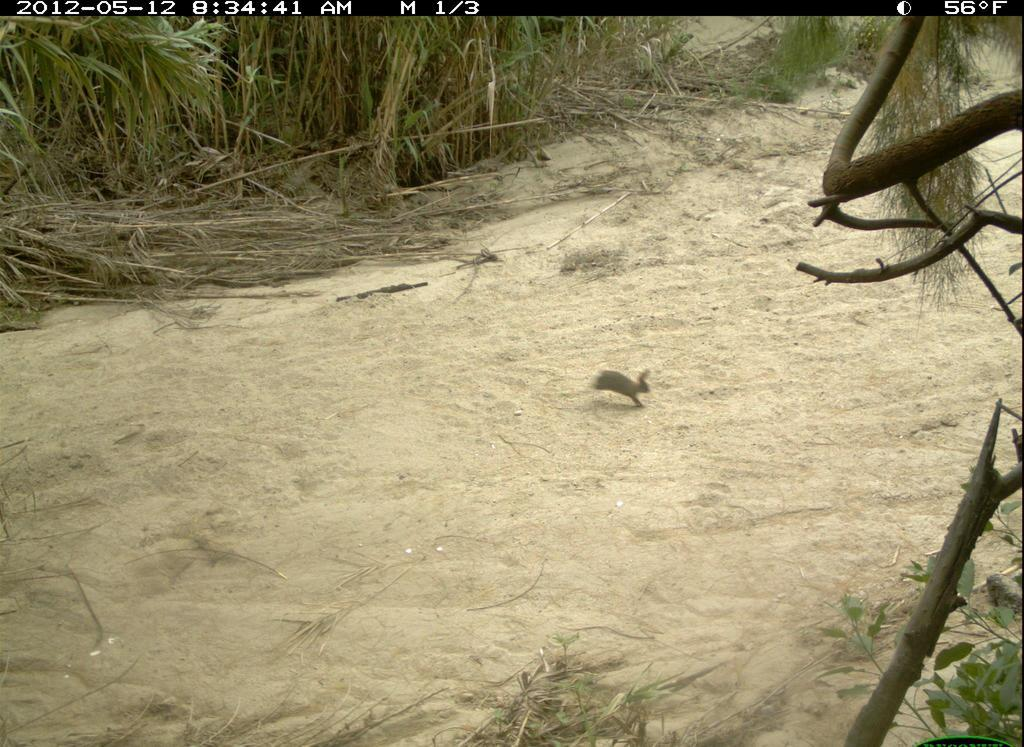rabbit: (583, 354, 666, 422)
